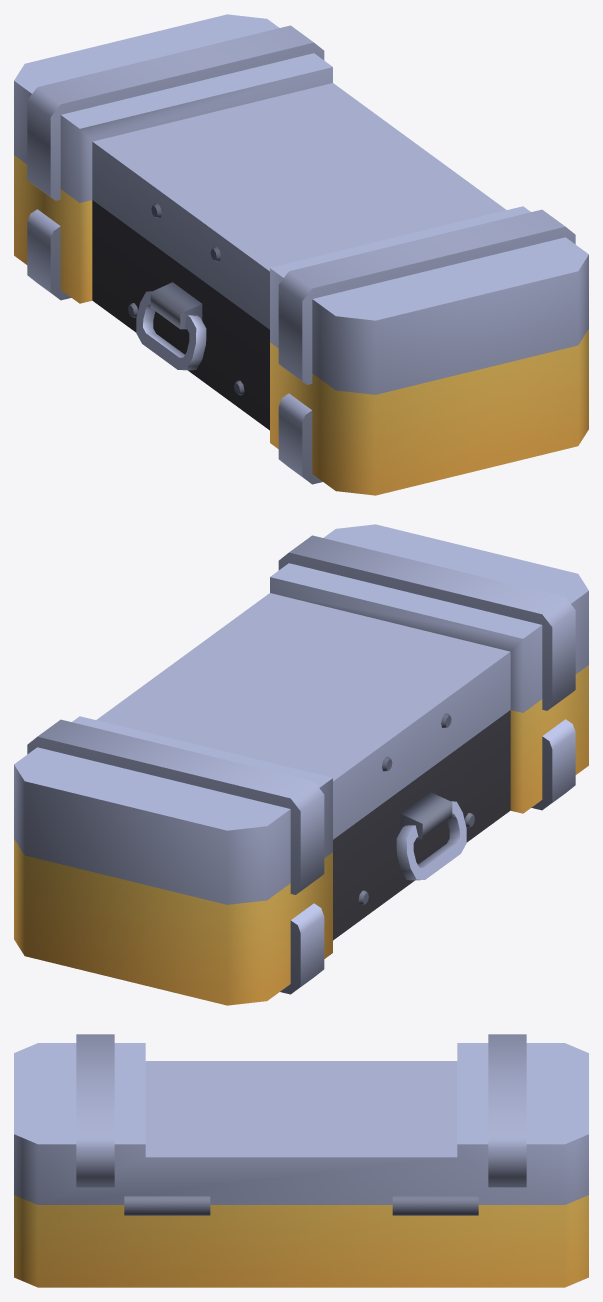
The model's file is rockets_large.glb.
3 renders of one model, top to bottom at view 1: azimuth 30°, elevation 25°; view 2: azimuth 150°, elevation 25°; view 3: azimuth 270°, elevation 25°, orthographic. The views are drawn at different scales.
Parts seen in each view (by area): view 1: lid, crate-wide; view 2: lid, crate-wide; view 3: lid, crate-wide.
Boxes of the visible parts, bbox=[...] form: lid: bbox=[14, 14, 588, 394]; crate-wide: bbox=[14, 155, 588, 495]; lid: bbox=[14, 524, 588, 904]; crate-wide: bbox=[14, 665, 588, 1005]; lid: bbox=[14, 1034, 588, 1204]; crate-wide: bbox=[14, 1195, 588, 1287].
Bounding box in the file's own units: 0.5495 × 0.37 × 1.2.
Materials: 1 (1 with a texture image).
